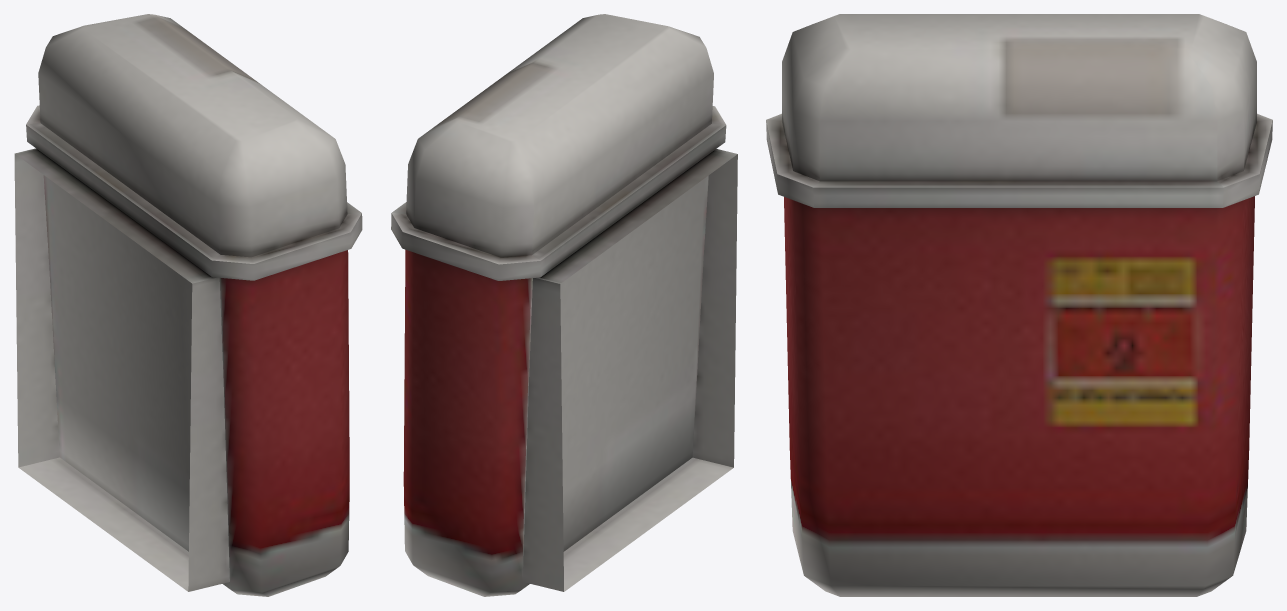
Rendered from SharpsContainer.FBX.
3 views of the same model, side by side, from view 1: azimuth 30°, elevation 25°; view 2: azimuth 150°, elevation 25°; view 3: azimuth 270°, elevation 25° (orthographic). The views are drawn at different scales.
Parts seen in each view (by area): view 1: SharpsContainer; view 2: SharpsContainer; view 3: SharpsContainer.
Part boxes in pixels (x1,y1,x2,y2): SharpsContainer: (14, 14, 362, 596); SharpsContainer: (391, 14, 737, 596); SharpsContainer: (766, 14, 1272, 596).
Bounding box in the file's own units: 19.84 × 50.45 × 43.34.
